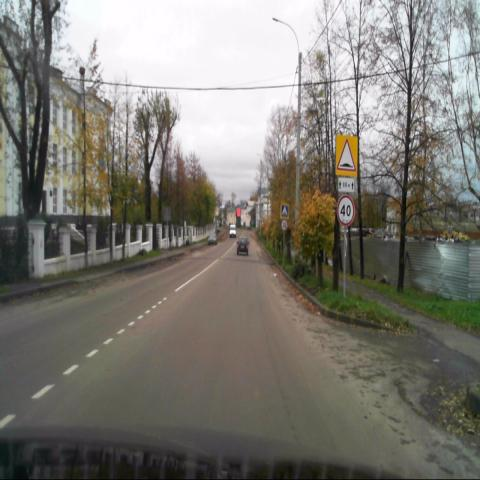8_2_1: (338, 178, 354, 194)
